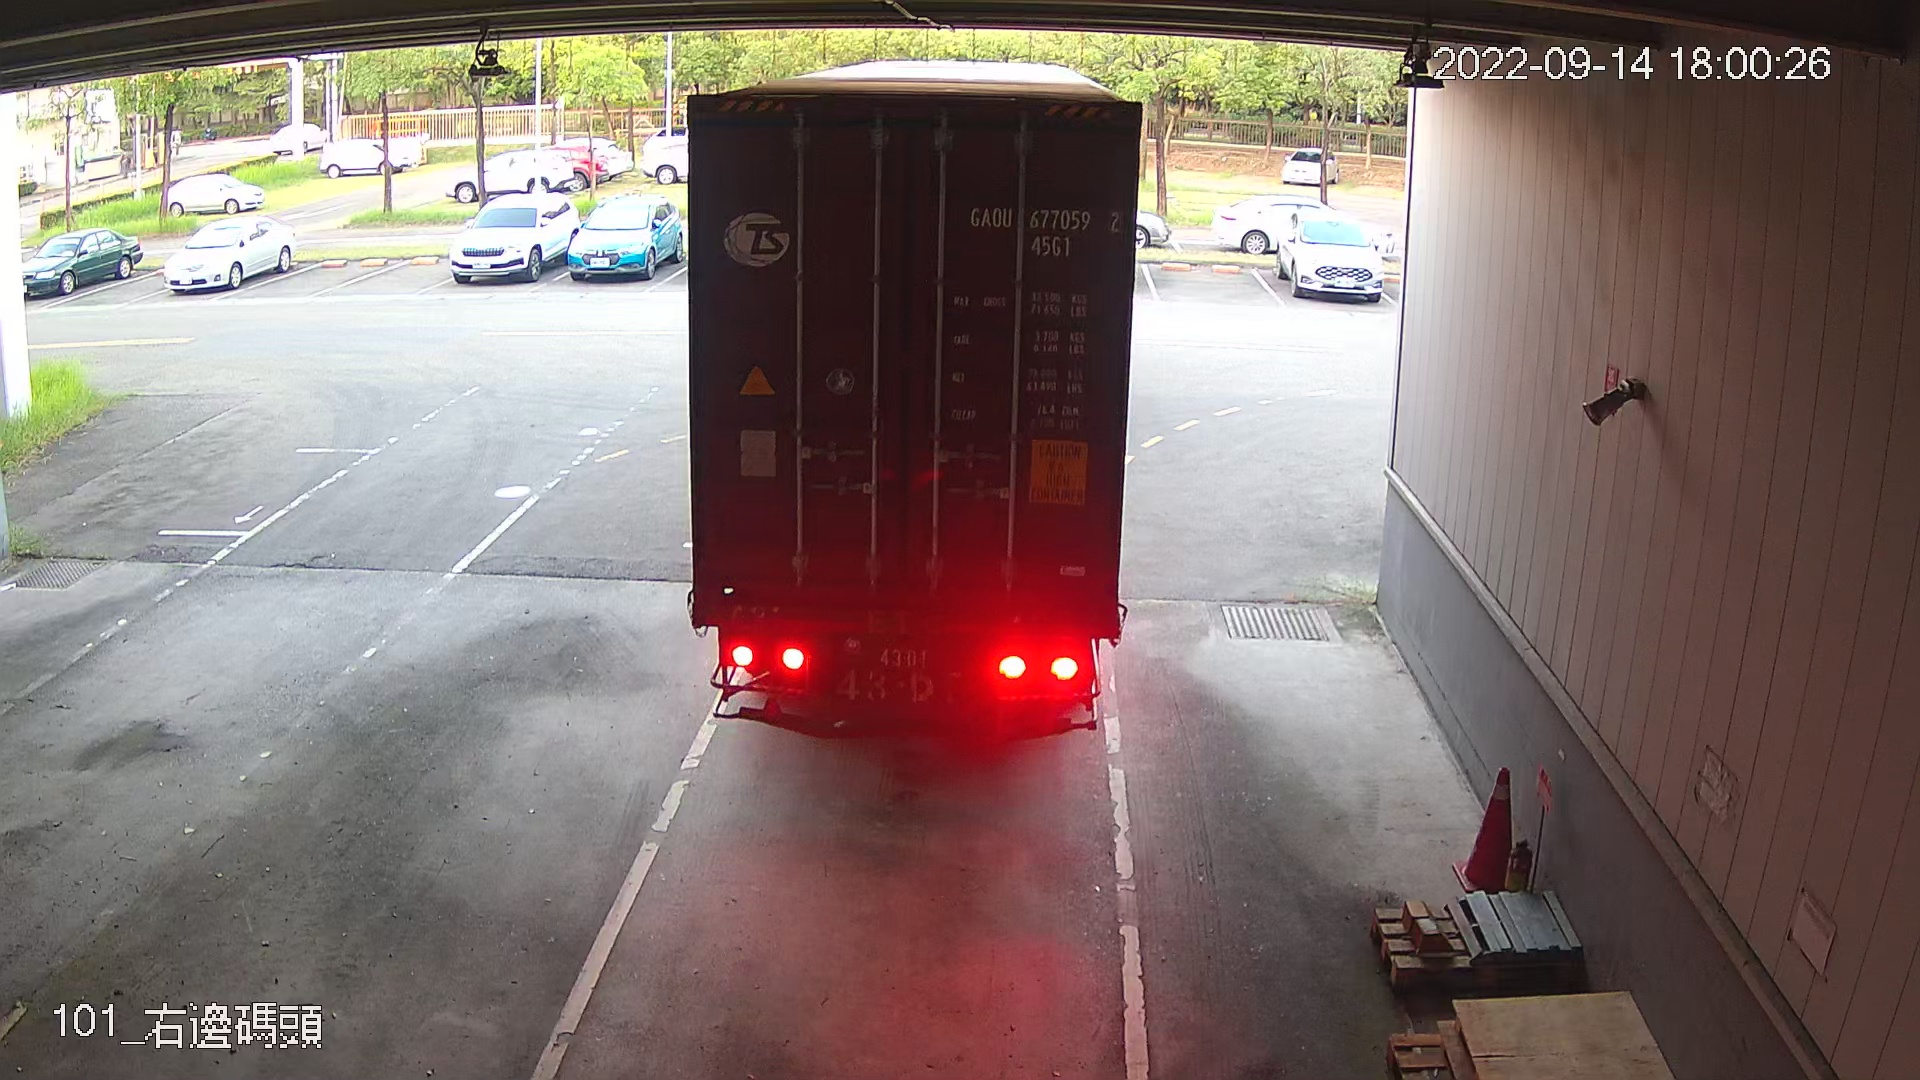container: (960, 193, 1127, 264)
